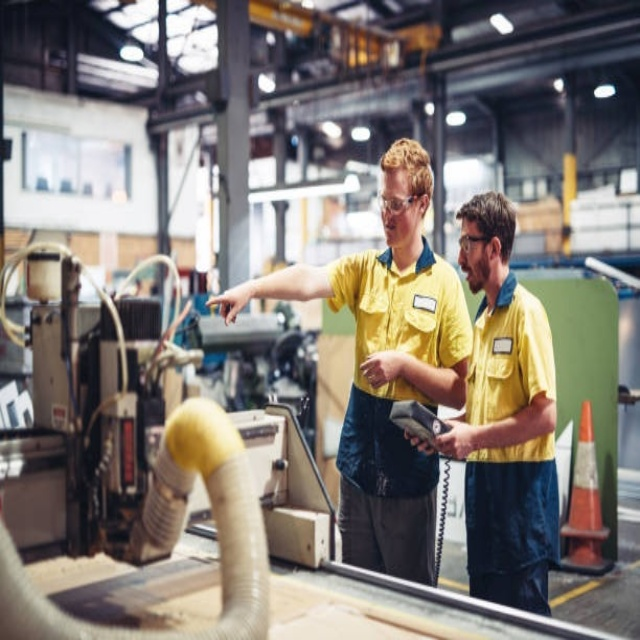Gafas: (378, 193, 420, 214), (458, 234, 492, 252)
Sin_guantes: (205, 275, 252, 325), (409, 421, 459, 461), (355, 349, 397, 391)
Sin_mascara: (382, 218, 405, 248), (460, 260, 479, 293)
